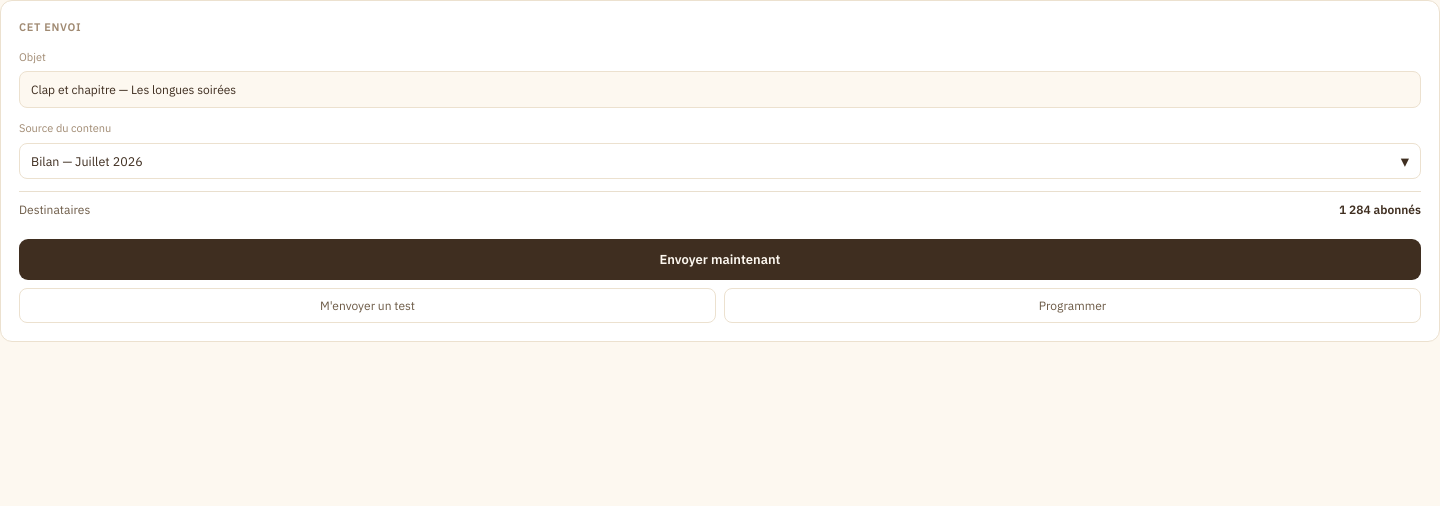
AN-3 newsletter panels › asks for an address before sending a test, pre-filled with the editor's
This screenshot has width=1440, height=506.
Click the button "M'envoyer un test" at (368, 306), box [19,288,716,323]
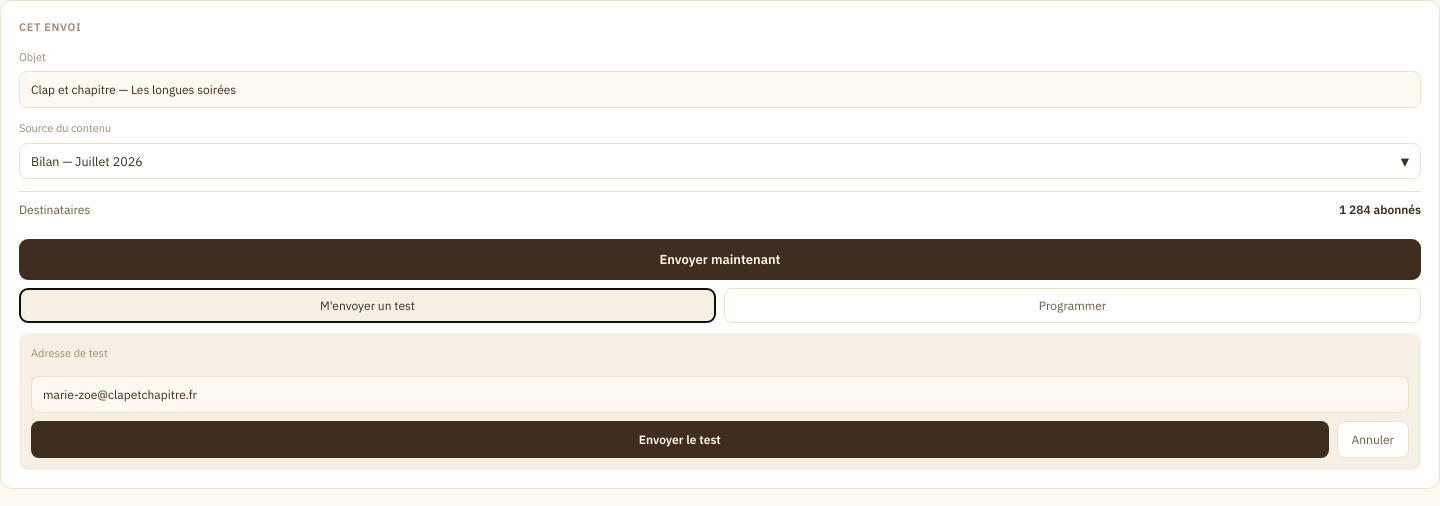
Result: the field labelled "Adresse de test" holds "marie-zoe@clapetchapitre.fr" at [31,376,1409,413]
